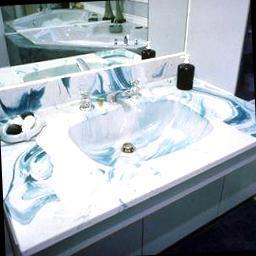Lavamanos: (0, 77, 256, 255)
